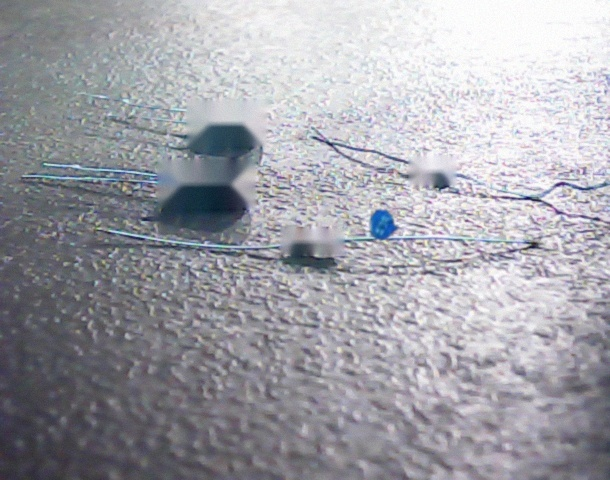capacitor: (370, 210, 398, 239)
